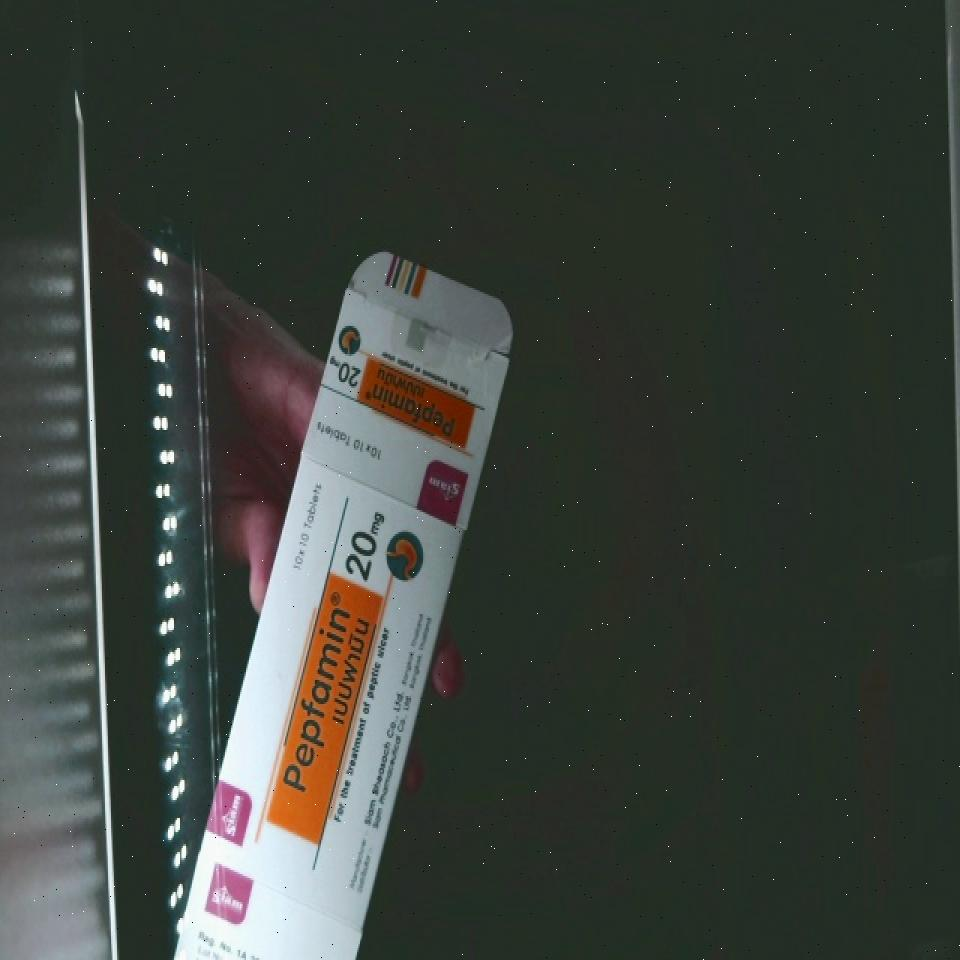medicine_box: (174, 251, 520, 960)
medicine_label_obb: (267, 579, 383, 836)
